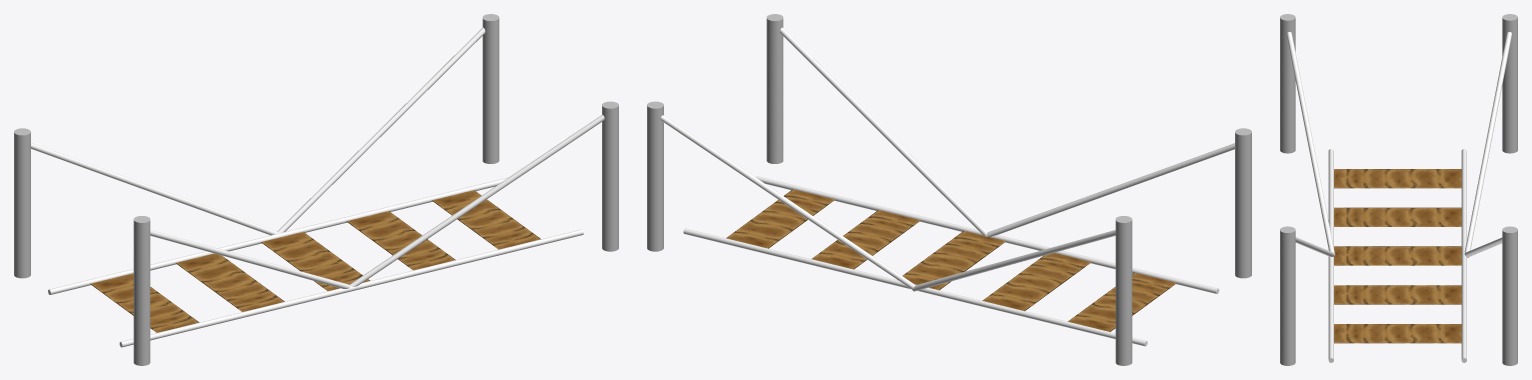
The model's file is Puente3.FBX.
3 views of the same model, side by side, from view 1: azimuth 30°, elevation 25°; view 2: azimuth 150°, elevation 25°; view 3: azimuth 270°, elevation 25° (orthographic). The views are drawn at different scales.
Parts seen in each view (by area): view 1: Cylinder010, Box002, Box005, Box004, Cylinder002, Cylinder003, Box003, Cylinder001, Cylinder004, Cylinder011, Box001, Cylinder017 (+3 smaller); view 2: Box002, Cylinder011, Box005, Box004, Cylinder001, Cylinder004, Box003, Cylinder002, Cylinder003, Cylinder010, Box001, Cylinder016 (+3 smaller); view 3: Box001, Box002, Box004, Box005, Box003, Cylinder003, Cylinder004, Cylinder002, Cylinder001, Cylinder015, Cylinder014, Cylinder011 (+3 smaller).
Part boxes in pixels (x1=…): Cylinder010: x1=119, y1=229, x2=583, y2=347; Box002: x1=175, y1=253, x2=284, y2=311; Box005: x1=432, y1=190, x2=540, y2=249; Box004: x1=346, y1=211, x2=455, y2=270; Cylinder002: x1=133, y1=216, x2=150, y2=365; Cylinder003: x1=482, y1=14, x2=499, y2=163; Box003: x1=261, y1=232, x2=369, y2=290; Cylinder001: x1=14, y1=128, x2=30, y2=278; Cylinder004: x1=602, y1=101, x2=618, y2=251; Cylinder011: x1=48, y1=177, x2=508, y2=294; Box001: x1=90, y1=273, x2=199, y2=332; Cylinder017: x1=349, y1=114, x2=604, y2=286; Box002: x1=982, y1=253, x2=1091, y2=310; Cylinder011: x1=683, y1=228, x2=1147, y2=346; Box005: x1=726, y1=189, x2=835, y2=248; Box004: x1=812, y1=210, x2=920, y2=269; Cylinder001: x1=1115, y1=216, x2=1132, y2=365; Cylinder004: x1=766, y1=14, x2=783, y2=163; Box003: x1=902, y1=231, x2=1006, y2=290; Cylinder002: x1=1235, y1=128, x2=1251, y2=278; Cylinder003: x1=647, y1=101, x2=663, y2=251; Cylinder010: x1=756, y1=176, x2=1219, y2=293; Box001: x1=1068, y1=272, x2=1176, y2=331; Cylinder016: x1=660, y1=115, x2=915, y2=289; Box001: x1=1334, y1=169, x2=1461, y2=188; Box002: x1=1334, y1=207, x2=1461, y2=226; Box004: x1=1334, y1=285, x2=1461, y2=304; Box005: x1=1334, y1=324, x2=1461, y2=343; Box003: x1=1334, y1=246, x2=1461, y2=265; Cylinder003: x1=1502, y1=226, x2=1517, y2=365; Cylinder004: x1=1280, y1=226, x2=1295, y2=365; Cylinder002: x1=1280, y1=14, x2=1295, y2=153; Cylinder001: x1=1502, y1=14, x2=1517, y2=153; Cylinder015: x1=1286, y1=32, x2=1335, y2=255; Cylinder014: x1=1464, y1=32, x2=1511, y2=257; Cylinder011: x1=1461, y1=149, x2=1466, y2=362.
Size of the model in its own units: 113 by 32.58 by 51.88.
